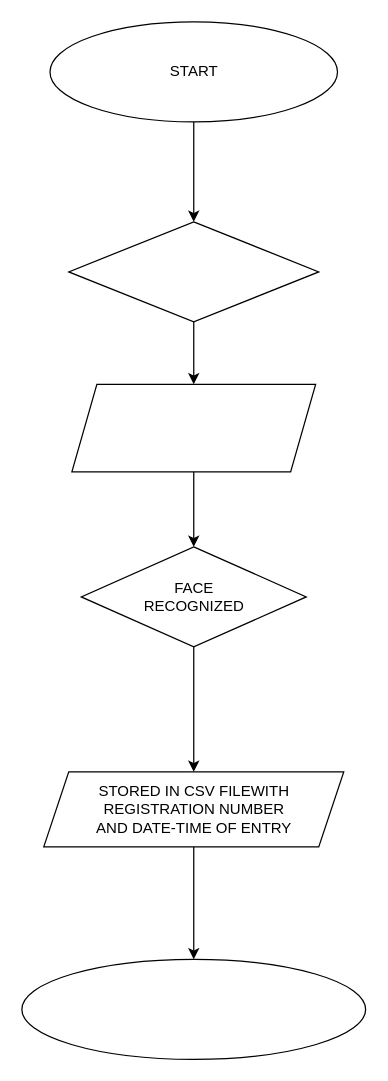
Some shapes in this 388 by 1081 pixel diagram are drawn without their labels. The centre of each missing label's shape, as x and y in pixels:
"NEWS USER" belongs at pixel 193 271.
"RECOGNIZE" belongs at pixel 193 427.
